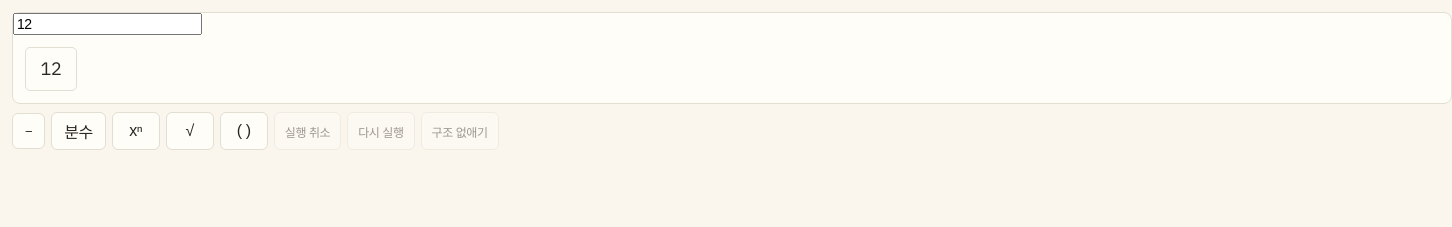
Test: one structured math input for every question › keeps a typed base when turning it into a power
The image size is (1452, 227).
Step 1. Focus the field named "나의 답" → (108, 24), box [13, 13, 202, 35]
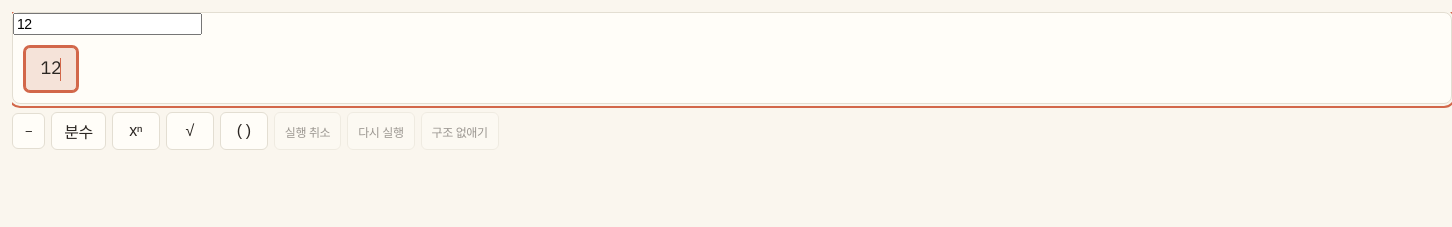
Step 2. Click the button with aria-label "거듭제곱 입력" → (136, 131), box [112, 112, 160, 150]
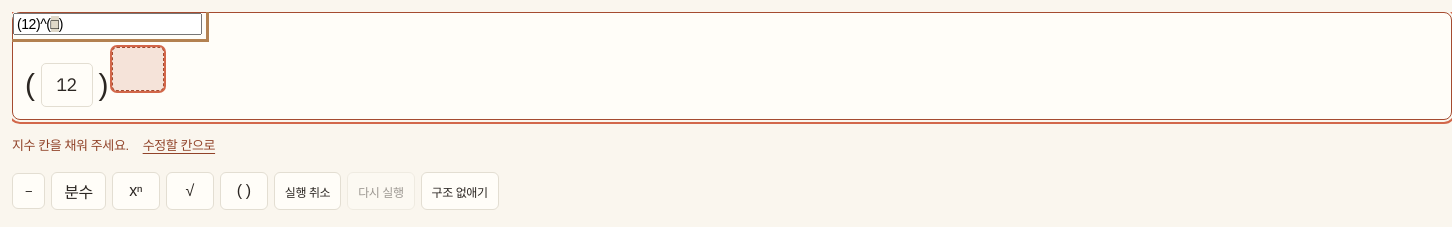
Expected: the field named "나의 답" holds "(12)^(□)", [13, 13, 202, 35]
